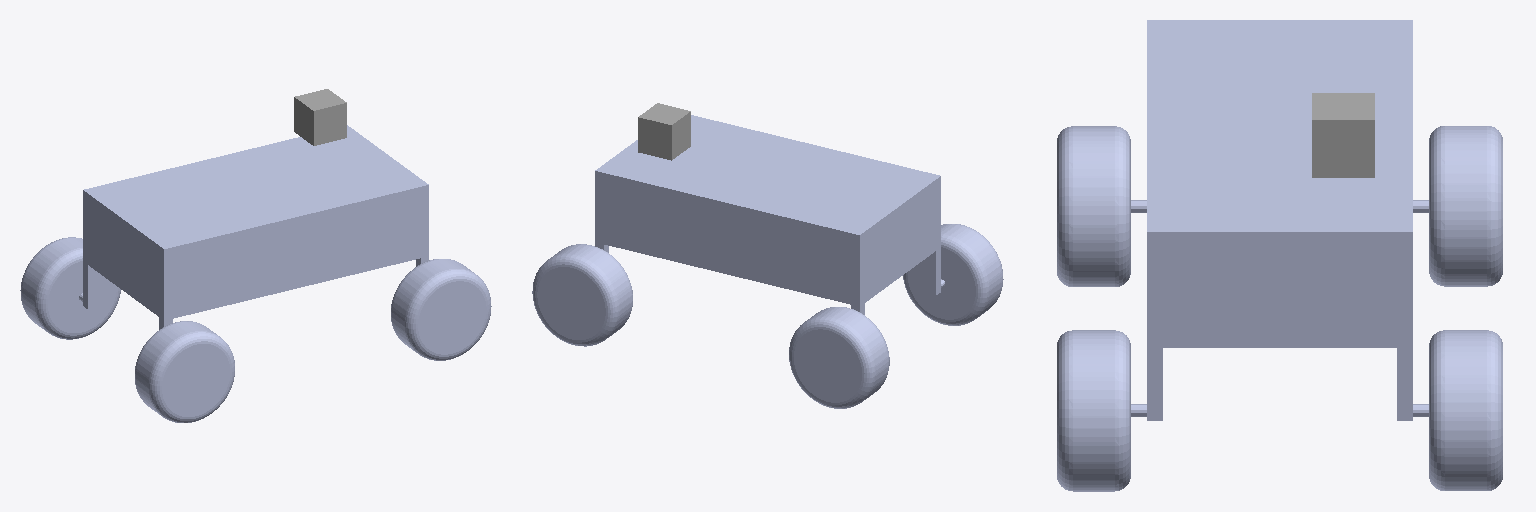
robot.urdf — rover_autonav:
<?xml version="1.0" encoding="utf-8"?>
<!-- This URDF was automatically created by SolidWorks to URDF Exporter! Originally created by [author] ([email redacted]) 
     Commit Version: 1.6.0-1-g15f4949  Build Version: 1.6.7594.29634
     For more information, please see http://wiki.ros.org/sw_urdf_exporter -->
<robot
  name="rover_autonav">
  <link
    name="base_link">
    <inertial>
      <origin
        xyz="-2.2204E-16 3.8858E-16 -0.10299"
        rpy="0 0 0" />
      <mass
        value="46" />
      <inertia
        ixx="1.2576"
        ixy="-8.9345E-15"
        ixz="1.1652E-14"
        iyy="3.7875"
        iyz="-2.6748E-15"
        izz="4.548" />
    </inertial>
    <visual>
      <origin
        xyz="0 0 0"
        rpy="0 0 0" />
      <geometry>
        <mesh
          filename="package://rover_autonav/meshes/base_link.STL" />
      </geometry>
      <material
        name="">
        <color
          rgba="0.79216 0.81961 0.93333 1" />
      </material>
    </visual>
    <collision>
      <origin
        xyz="0 0 0"
        rpy="0 0 0" />
      <geometry>
        <mesh
          filename="package://rover_autonav/meshes/base_link.STL" />
      </geometry>
    </collision>
  </link>


  <!-- BASE FOOTPRINT -->
  <link name="base_footprint">
    <visual>
        <origin xyz="0 0 0" rpy="0 0 0" />
        <geometry>
            <box size="0.001 0.001 0.001" />
        </geometry>
    </visual>
  </link>

  <joint name="base_footprint_joint" type="fixed">
    <origin xyz="0.0 0.0 0.445" rpy="0 0 0" />
    <parent link="base_footprint"/>
    <child link="base_link" />
  </joint>


  <!-- Create a dummy link as base link -->
  <!-- <link name="dummy">
	</link> 
  <joint name="dummy_joint" type="fixed">
    <parent link="dummy"/>
    <child link="base_link"/>
  </joint> -->

  <link
    name="lbacklink">
    <inertial>
      <origin
        xyz="-7.27733231620231E-07 0.05842 1.62491302746481E-06"
        rpy="0 0 0" />
      <mass
        value="1" />
      <inertia
        ixx="0.0284379209888981"
        ixy="-5.75264381966658E-17"
        ixz="-3.92244964079017E-09"
        iyy="0.0446580879636162"
        iyz="5.59109627307512E-17"
        izz="0.0284379279903993" />
    </inertial>
    <visual>
      <origin
        xyz="0 0 0"
        rpy="0 0 0" />
      <geometry>
        <mesh
          filename="package://rover_autonav/meshes/lbacklink.STL" />
      </geometry>
      <material
        name="">
        <color
          rgba="0.792156862745098 0.819607843137255 0.933333333333333 1" />
      </material>
    </visual>
    <collision>
      <origin
        xyz="0 0 0"
        rpy="0 0 0" />
      <geometry>
        <mesh
          filename="package://rover_autonav/meshes/lbacklink.STL" />
      </geometry>
    </collision>
  </link>
  <gazebo reference="lbacklink">
    <material>Gazebo/Green</material>
    <kp>1000000.0</kp> <!-- kp and kd for rubber -->
    <kd>100.0</kd>
    <mu1>1.0</mu1>
    <mu2>1.0</mu2>
    <maxVel>5.0</maxVel>
	<minDepth>0.00</minDepth>
  </gazebo>
  <joint
    name="backleft"
    type="continuous">
    <origin
      xyz="-0.38078 -0.35179 -0.31801"
      rpy="0 0 0" />
    <parent
      link="base_link" />
    <child
      link="lbacklink" />
    <axis
      xyz="0 1 0" />
    <limit
      effort="1000000"
      velocity="1000000" />
  </joint>
  <link
    name="rbacklink">
    <inertial>
      <origin
        xyz="5.02792962708831E-07 -0.05842 -1.70796289178377E-06"
        rpy="0 0 0" />
      <mass
        value="1" />
      <inertia
        ixx="0.0284379200707492"
        ixy="-5.63682702496539E-17"
        ixz="-2.84854228166472E-09"
        iyy="0.0446580879636162"
        iyz="5.62895689764963E-17"
        izz="0.0284379289085482" />
    </inertial>
    <visual>
      <origin
        xyz="0 0 0"
        rpy="0 0 0" />
      <geometry>
        <mesh
          filename="package://rover_autonav/meshes/rbacklink.STL" />
      </geometry>
      <material
        name="">
        <color
          rgba="0.792156862745098 0.819607843137255 0.933333333333333 1" />
      </material>
    </visual>
    <collision>
      <origin
        xyz="0 0 0"
        rpy="0 0 0" />
      <geometry>
        <mesh
          filename="package://rover_autonav/meshes/rbacklink.STL" />
      </geometry>
    </collision>
  </link>
  <gazebo reference="rbacklink">
    <material>Gazebo/Blue</material>
    <kp>1000000.0</kp> <!-- kp and kd for rubber -->
    <kd>100.0</kd>
    <mu1>1.0</mu1>
    <mu2>1.0</mu2>
    <maxVel>1.0</maxVel>
	  <minDepth>0.00</minDepth>
  </gazebo>
  <joint
    name="backright"
    type="continuous">
    <origin
      xyz="-0.38115 0.35179 -0.31701"
      rpy="0 0 0" />
    <parent
      link="base_link" />
    <child
      link="rbacklink" />
    <axis
      xyz="0 1 0" />
    <limit
      effort="1000000"
      velocity="1000000" />
  </joint>
  <link
    name="lfrontlink">
    <inertial>
      <origin
        xyz="7.29369893370801E-08 0.05842 1.77893737907109E-06"
        rpy="0 0 0" />
      <mass
        value="1" />
      <inertia
        ixx="0.0284379192498368"
        ixy="-5.69933931600498E-17"
        ixz="4.30391359396819E-10"
        iyy="0.0446580879636162"
        iyz="5.89209747200998E-17"
        izz="0.0284379297294607" />
    </inertial>
    <visual>
      <origin
        xyz="0 0 0"
        rpy="0 0 0" />
      <geometry>
        <mesh
          filename="package://rover_autonav/meshes/lfrontlink.STL" />
      </geometry>
      <material
        name="">
        <color
          rgba="0.792156862745098 0.819607843137255 0.933333333333333 1" />
      </material>
    </visual>
    <collision>
      <origin
        xyz="0 0 0"
        rpy="0 0 0" />
      <geometry>
        <mesh
          filename="package://rover_autonav/meshes/lfrontlink.STL" />
      </geometry>
    </collision>
  </link>
  <gazebo reference="lfrontlink">
    <material>Gazebo/Red</material>
    <kp>1000000.0</kp> <!-- kp and kd for rubber -->
    <kd>100.0</kd>
    <mu1>1.0</mu1>
    <mu2>1.0</mu2>
    <maxVel>1.0</maxVel>
	  <minDepth>0.00</minDepth>
  </gazebo>
  <joint
    name="frontleft"
    type="continuous">
    <origin
      xyz="0.38098 -0.35179 -0.31805"
      rpy="0 0 0" />
    <parent
      link="base_link" />
    <child
      link="lfrontlink" />
    <axis
      xyz="0 1 0" />
    <limit
      effort="1000000"
      velocity="1000000" />
  </joint>
  <link
    name="rfrontlink">
    <inertial>
      <origin
        xyz="-1.66413693092338E-06 -0.0584199999999999 -6.32918855159037E-07"
        rpy="0 0 0" />
      <mass
        value="1" />
      <inertia
        ixx="0.0284379284183329"
        ixy="-5.64546623366554E-17"
        ixz="3.49375254610767E-09"
        iyy="0.0446580879636162"
        iyz="5.51053175905783E-17"
        izz="0.0284379205609646" />
    </inertial>
    <visual>
      <origin
        xyz="0 0 0"
        rpy="0 0 0" />
      <geometry>
        <mesh
          filename="package://rover_autonav/meshes/rfrontlink.STL" />
      </geometry>
      <material
        name="">
        <color
          rgba="0.792156862745098 0.819607843137255 0.933333333333333 1" />
      </material>
    </visual>
    <collision>
      <origin
        xyz="0 0 0"
        rpy="0 0 0" />
      <geometry>
        <mesh
          filename="package://rover_autonav/meshes/rfrontlink.STL" />
      </geometry>
    </collision>
  </link>
  <gazebo reference="rfrontlink">
    <material>Gazebo/Grey</material>
    <kp>1000000.0</kp> <!-- kp and kd for rubber -->
    <kd>100.0</kd>
    <mu1>1.0</mu1>
    <mu2>1.0</mu2>
    <maxVel>1.0</maxVel>
	  <minDepth>0.00</minDepth>
  </gazebo>
  <joint
    name="frontright"
    type="continuous">
    <origin
      xyz="0.3815 0.35179 -0.31733"
      rpy="0 0 0" />
    <parent
      link="base_link" />
    <child
      link="rfrontlink" />
    <axis
      xyz="0 1 0" />
    <limit
      effort="1000000"
      velocity="1000000" />
  </joint>


  <!-- Hokuyo Laser-->
  <joint name="hokuyo_joint" type="fixed">
      <axis xyz="0 1 0" />
      <origin xyz="0.35 0 0.02" rpy="0 0 0"/>
      <parent link="base_link"/>
      <child link="hokuyo_link"/>
  </joint>

  <link name="hokuyo_link">
    <collision>
      <origin xyz="0 0 0.05" rpy="0 0 0"/>
      <geometry>
        <box size="0.1 0.1 0.1"/>
      </geometry>
    </collision>

    <visual>
      <origin xyz="0 0 0" rpy="0 0 0"/>
      <geometry>
        <mesh filename="package://rover_control/meshes/hokuyo.dae"/>
      </geometry>
    </visual>

    <inertial>
      <mass value="1e-5" />
      <origin xyz="0 0 0" rpy="0 0 0"/>
      <inertia ixx="1e-6" ixy="0" ixz="0" iyy="1e-6" iyz="0" izz="1e-6" />
    </inertial>
  </link>
  <gazebo reference="hokuyo_link">
    <material>Gazebo/Yellow</material>
  </gazebo>


  <gazebo reference="hokuyo_link">
    <sensor type="ray" name="head_hokuyo_sensor">
      <pose>0 0 0 0 0 0</pose>
      <visualize>true</visualize>
      <update_rate>100</update_rate>
      <ray>
        <scan>
          <horizontal>
            <samples>360</samples>
            <resolution>1</resolution>
            <min_angle>-1.57</min_angle>
            <max_angle>1.57</max_angle>
          </horizontal>
        </scan>
        <range>
          <min>0.10</min>
          <max>20</max>
          <resolution>0.01</resolution>
        </range>
        <noise>
          <type>gaussian</type>
          <!-- Noise parameters based on published spec for Hokuyo laser
               achieving "+-30mm" accuracy at range < 10m.  A mean of 0.0m and
               stddev of 0.01m will put 99.7% of samples within 0.03m of the true
               reading. -->
          <mean>0.0</mean>
          <stddev>0.01</stddev>
        </noise>
      </ray>
      <plugin name="gazebo_ros_head_hokuyo_controller" filename="libgazebo_ros_laser.so">
        <topicName>/scan</topicName>
        <frameName>hokuyo_link</frameName>
      </plugin>
    </sensor>
  </gazebo>


  <!-- Camera-->
  <joint name="camera_joint" type="fixed">
    <axis xyz="0 1 0" />
    <origin xyz="0.25 0.1 0.1" rpy="0 0 0"/>
    <parent link="base_link"/>
    <child link="camera_link"/>
  </joint>

  <link name="camera_link">
    <collision>
      <origin xyz="0 0 0" rpy="0 0 0"/>
      <geometry>
        <box size="0.05 0.05 0.05"/>
      </geometry>
    </collision>

    <visual>
      <origin xyz="0 0 0" rpy="0 0 0"/>
      <geometry>
        <box size="0.1 0.1 0.1"/>
      </geometry>
      <material name="red"/>
    </visual>

    <inertial>
      <mass value="1e-5" />
      <origin xyz="0 0 0" rpy="0 0 0"/>
      <inertia ixx="1e-6" ixy="0" ixz="0" iyy="1e-6" iyz="0" izz="1e-6" />
    </inertial>
  </link>
  <gazebo reference="camera_link">
    <material>Gazebo/Red</material>
  </gazebo>

  <gazebo reference="camera_link">
    <sensor name="kinect_camera" type="depth">
      <update_rate>20</update_rate>
      <camera>
        <horizontal_fov>1.047198</horizontal_fov>
        <image>
          <width>640</width>
          <height>480</height>
          <format>R8G8B8</format>
        </image>
        <clip>
          <near>0.05</near>
          <far>3</far>
        </clip>
      </camera>
      <plugin name="camera_link_controller" filename="libgazebo_ros_openni_kinect.so">
        <baseline>0.2</baseline>
        <alwaysOn>true</alwaysOn>
        <updateRate>1.0</updateRate>
        <cameraName>camera_link_ir</cameraName>
        <imageTopicName>/camera_link/color/image_raw</imageTopicName>
        <cameraInfoTopicName>/camera_link/color/camera_info</cameraInfoTopicName>
        <depthImageTopicName>/camera_link/depth/image_raw</depthImageTopicName>
        <depthImageInfoTopicName>/camera_link/depth/camera_info</depthImageInfoTopicName>
        <pointCloudTopicName>/camera_link/depth/points</pointCloudTopicName>
        <frameName>camera_link</frameName>
        <pointCloudCutoff>0.5</pointCloudCutoff>
        <pointCloudCutoffMax>3.0</pointCloudCutoffMax>
        <distortionK1>0.00000001</distortionK1>
        <distortionK2>0.00000001</distortionK2>
        <distortionK3>0.00000001</distortionK3>
        <distortionT1>0.00000001</distortionT1>
        <distortionT2>0.00000001</distortionT2>
        <CxPrime>0</CxPrime>
        <Cx>0</Cx>
        <Cy>0</Cy>
        <focalLength>0</focalLength>
        <hackBaseline>0</hackBaseline>
      </plugin>
    </sensor>
  </gazebo>

  <!--Skid Steer Drive Controller-->
  <gazebo>
	  <plugin name="skid_steer_drive_controller" filename="libgazebo_ros_skid_steer_drive.so">
	    <updateRate>10.0</updateRate>
      <robotNamespace>/</robotNamespace>
	    <leftFrontJoint>frontright</leftFrontJoint>
	    <rightFrontJoint>frontleft</rightFrontJoint>
	    <leftRearJoint>backright</leftRearJoint>
	    <rightRearJoint>backleft</rightRearJoint>
	    <wheelSeparation>0.762</wheelSeparation>
	    <wheelDiameter>0.254</wheelDiameter>
	    <robotBaseFrame>base_footprint</robotBaseFrame>
	    <torque>500</torque> <!--can start rotating base at torque > & == 50-->
	    
      <topicName>cmd_vel</topicName>
      <odometryTopic>odom</odometryTopic>
      <odometryFrame>odom</odometryFrame>

      <commandTopic>cmd_vel</commandTopic>
      <!-- <topic_name_twist>cmd_vel</topic_name_twist>
      <topic_name_odometry>odom</topic_name_odometry>
      <topic_name_joint>joint</topic_name_joint> -->
    
      <publishOdom>true</publishOdom>
	    <broadcastTF>true</broadcastTF>

	    <covariance_x>0.0001</covariance_x>
	    <covariance_y>0.0001</covariance_y>
	    <covariance_yaw>0.01</covariance_yaw>
	  </plugin>
	</gazebo>


<!-- IMU Plugin -->
  <gazebo>
    <plugin name="imu_plugin" filename="libgazebo_ros_imu.so">
      <alwaysOn>true</alwaysOn>
      <bodyName>base_link</bodyName>
      <topicName>imu</topicName>
      <serviceName>imu_service</serviceName>
      <gaussianNoise>0.1</gaussianNoise>
      <updateRate>20.0</updateRate>
    </plugin>
  </gazebo>
  <gazebo>
    <plugin name="gazebo_ros_control" filename="libgazebo_ros_control.so">
      <robotNamespace>rover_autonav</robotNamespace>
      <robotSimType>gazebo_ros_control/DefaultRobotHWSim</robotSimType>
    </plugin>
  </gazebo>

  <!-- Rear wheels transmission -->

  <transmission name="rear_left_wheel">
      <type>transmission_interface/SimpleTransmission</type>
      <joint name="backleft">
          <hardwareInterface>hardware_interface/EffortJointInterface</hardwareInterface>
      </joint>
      <actuator name="motor_rear_left_wheel">
          <hardwareInterface>hardware_interface/EffortJointInterface</hardwareInterface>
          <mechanicalReduction>1</mechanicalReduction>
      </actuator>
  </transmission>

  <transmission name="rear_right_wheel">
      <type>transmission_interface/SimpleTransmission</type>
      <joint name="backright">
          <hardwareInterface>hardware_interface/EffortJointInterface</hardwareInterface>
      </joint>
      <actuator name="motor_rear_right_wheel">
          <hardwareInterface>hardware_interface/EffortJointInterface</hardwareInterface>
          <mechanicalReduction>1</mechanicalReduction>
      </actuator>
  </transmission>

  <!-- Front wheels transmission -->

  <transmission name="front_left_wheel">
      <type>transmission_interface/SimpleTransmission</type>
      <joint name="frontleft">
          <hardwareInterface>hardware_interface/EffortJointInterface</hardwareInterface>
      </joint>
      <actuator name="motor_front_left_wheel">
          <hardwareInterface>hardware_interface/EffortJointInterface</hardwareInterface>
          <mechanicalReduction>1</mechanicalReduction>
      </actuator>
  </transmission>

  <transmission name="front_right_wheel">
      <type>transmission_interface/SimpleTransmission</type>
      <joint name="frontright">
          <hardwareInterface>hardware_interface/EffortJointInterface</hardwareInterface>
      </joint>
      <actuator name="motor_front_right_wheel">
          <hardwareInterface>hardware_interface/EffortJointInterface</hardwareInterface>
          <mechanicalReduction>1</mechanicalReduction>
      </actuator>
  </transmission>

</robot>

--- Render facts (derived) ---
3 views of the same robot in one strip: view 1: azimuth 30°, elevation 25°; view 2: azimuth 150°, elevation 25°; view 3: azimuth 270°, elevation 25° (orthographic).
Robot: rover_autonav — 8 links, 7 joints (4 continuous, 3 fixed); root link base_footprint; default pose: all joints at 0.
Links seen in each view (by area): view 1: base_link, lfrontlink, lbacklink, rbacklink, camera_link; view 2: base_link, rbacklink, rfrontlink, lbacklink, camera_link; view 3: base_link, lfrontlink, lbacklink, rfrontlink, rbacklink, camera_link.
Link boxes in pixels (x1,y1,x2,y2): base_link: (79, 125, 455, 383); lfrontlink: (391, 259, 491, 360); lbacklink: (135, 321, 234, 422); rbacklink: (20, 237, 120, 339); camera_link: (294, 89, 346, 145); base_link: (568, 115, 944, 369); rbacklink: (789, 307, 889, 408); rfrontlink: (532, 244, 632, 346); lbacklink: (903, 224, 1003, 325); camera_link: (638, 103, 690, 160); base_link: (1131, 20, 1428, 420); lfrontlink: (1057, 330, 1130, 491); lbacklink: (1057, 126, 1130, 286); rfrontlink: (1429, 330, 1502, 490); rbacklink: (1429, 126, 1502, 286); camera_link: (1312, 93, 1374, 177).
Size in the robot's own frame: 1.02 by 0.7036 by 0.5955 metres.
Meshes: 6 distinct files referenced, 5 mesh visuals loaded (5 binary STL); not drawn: 1 (reference not matched to a file when rendering).
